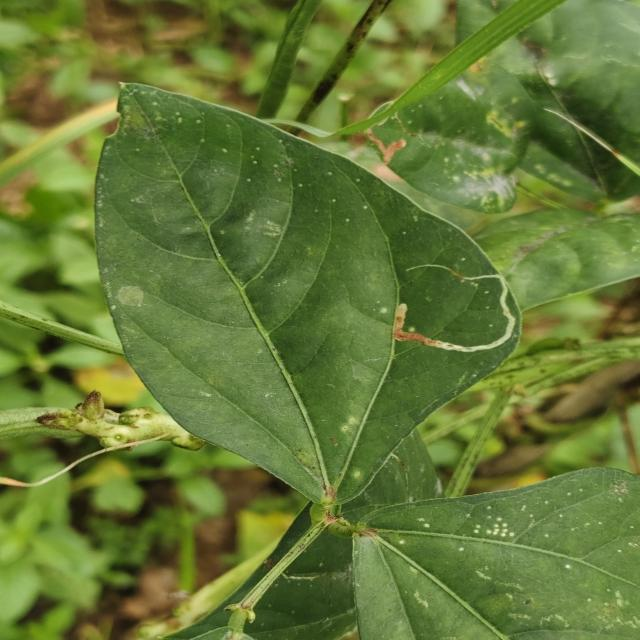sitaw-aphid-high: (95, 84, 521, 504), (353, 468, 640, 640), (373, 62, 640, 213), (125, 416, 129, 417)
